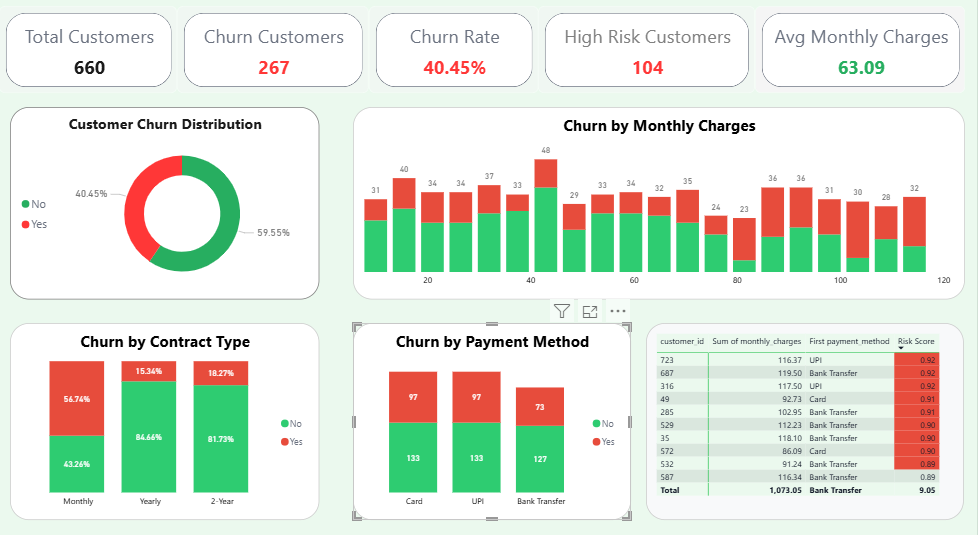

The page's visual inventory and layout, read from the dashboard file:
{"tool":"powerbi","page":{"name":"Page 1","canvas":[1280,720],"ordinal":0},"visuals":[{"type":"cardVisual","fields":{"Data":["KPI Mesures.Avg Monthly Charges"]},"box":[989.3,17.3,275,113.8],"z":0},{"type":"cardVisual","fields":{"Data":["KPI Mesures.Churn Customers"]},"box":[233.3,17.3,250.6,113.8],"z":1000},{"type":"cardVisual","fields":{"Data":["KPI Mesures.Churn Rate"]},"box":[483.8,17.3,221.8,113.8],"z":2000},{"type":"cardVisual","fields":{"Data":["KPI Mesures.High Risk Customers"]},"box":[705.6,17.3,283.7,113.8],"z":3000},{"type":"cardVisual","fields":{"Data":["KPI Mesures.Total Customers"]},"box":[0,17.3,233.3,113.8],"z":4000},{"type":"donutChart","title":"Customer Churn Distribution","fields":{"Category":["final_churn_data.churn"],"Y":["CountNonNull(final_churn_data.customer_id)"]},"box":[14.4,149.8,404.6,252],"z":5000},{"type":"hundredPercentStackedColumnChart","title":"Churn by Contract Type","fields":{"Category":["final_churn_data.contract_type"],"Y":["CountNonNull(final_churn_data.customer_id)"],"Series":["final_churn_data.Churn"]},"box":[14.4,432,404.5,257.9],"z":6000},{"type":"columnChart","title":"Churn by Payment Method","fields":{"Category":["final_churn_data.payment_method"],"Y":["CountNonNull(final_churn_data.customer_id)"],"Series":["final_churn_data.Churn"]},"box":[463.4,432,363.9,257.9],"z":7000},{"type":"columnChart","title":"Churn by Monthly Charges","fields":{"Category":["final_churn_data.monthly_charges (bins)"],"Y":["CountNonNull(final_churn_data.customer_id)"],"Series":["final_churn_data.Churn"]},"box":[463.7,149.8,800.6,252],"z":8000},{"type":"pivotTable","fields":{"Rows":["final_churn_data.customer_id"],"Values":["Sum(final_churn_data.monthly_charges)","Min(final_churn_data.payment_method)","Sum(final_churn_data.churn_probability)"]},"box":[847.5,431.9,416.2,258.1],"z":9000}]}

Visuals, with their boxes in screenshot pixels (x1, y1, x2, y2), scaled from the page's 1280x720 canvas onto the 978x535 screenshot:
cardVisual - KPI Mesures.Avg Monthly Charges: <region>756, 13, 966, 97</region>
cardVisual - KPI Mesures.Churn Customers: <region>178, 13, 370, 97</region>
cardVisual - KPI Mesures.Churn Rate: <region>370, 13, 539, 97</region>
cardVisual - KPI Mesures.High Risk Customers: <region>539, 13, 756, 97</region>
cardVisual - KPI Mesures.Total Customers: <region>0, 13, 178, 97</region>
"Customer Churn Distribution" donutChart: <region>11, 111, 320, 299</region>
"Churn by Contract Type" hundredPercentStackedColumnChart: <region>11, 321, 320, 513</region>
"Churn by Payment Method" columnChart: <region>354, 321, 632, 513</region>
"Churn by Monthly Charges" columnChart: <region>354, 111, 966, 299</region>
pivotTable - final_churn_data.customer_id x Sum(final_churn_data.monthly_charges): <region>648, 321, 966, 513</region>
